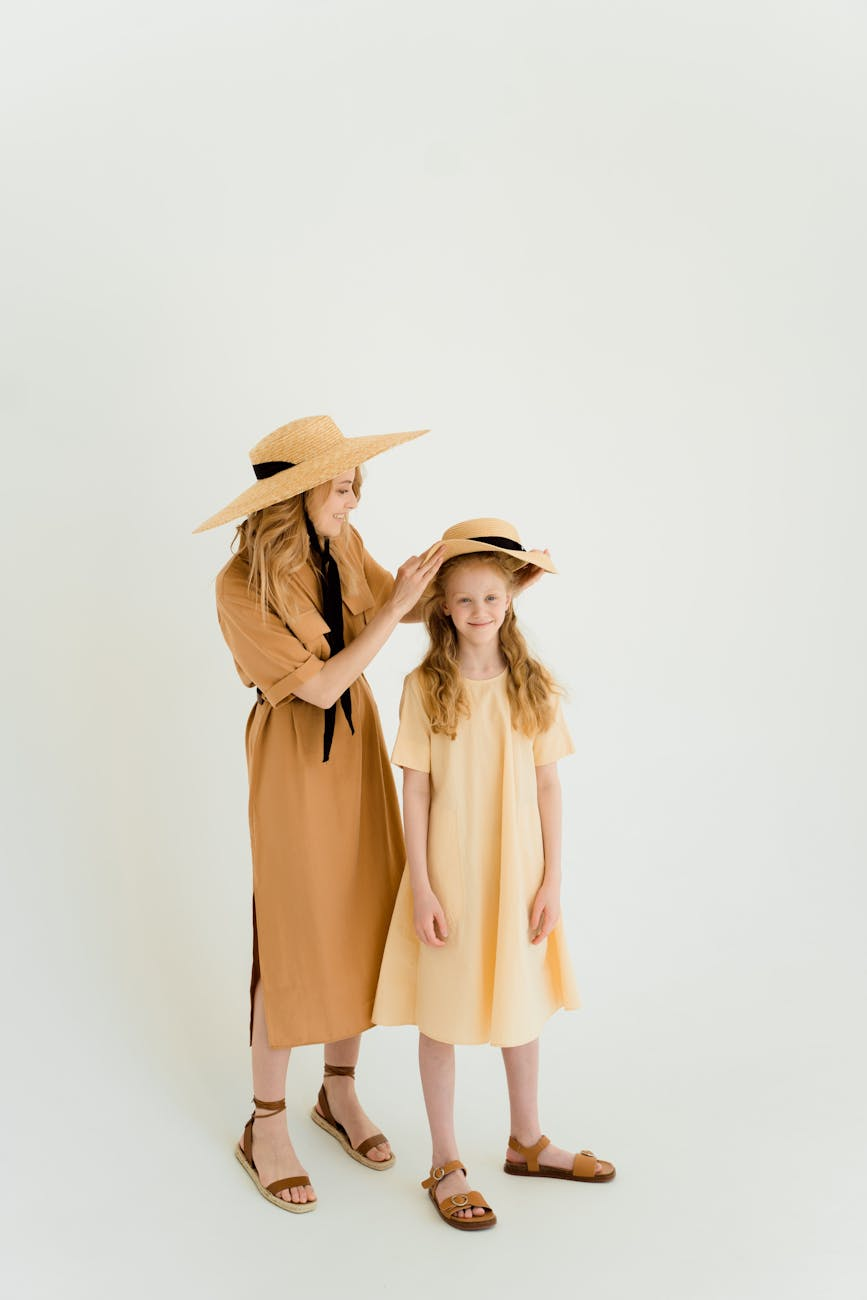opened_foot: (233, 1090, 318, 1212), (307, 1066, 398, 1174), (499, 1127, 614, 1187), (418, 1154, 499, 1233)
short_medium_skirt: (375, 850, 582, 1045), (229, 843, 431, 1040)
